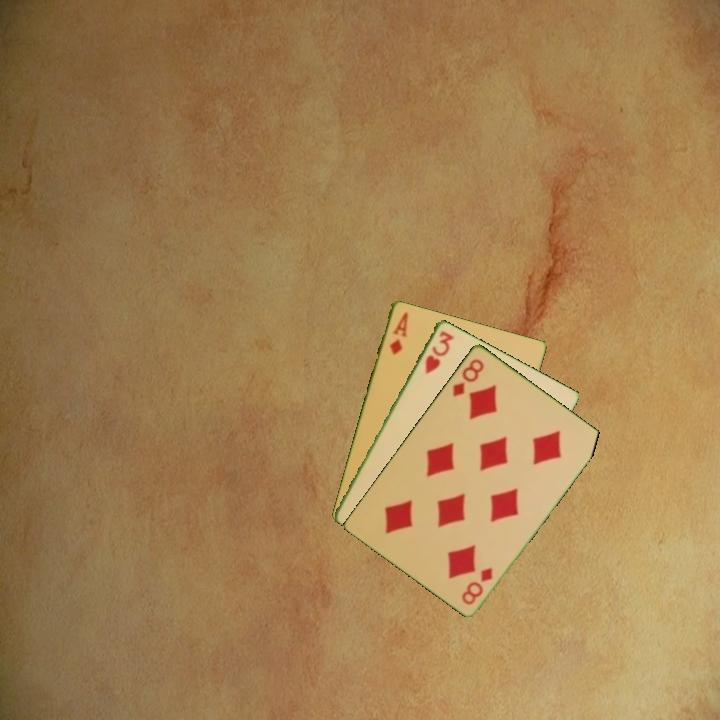3h: (421, 327, 457, 376)
8d: (449, 355, 487, 399), (458, 563, 496, 607)
Ad: (386, 308, 411, 358)
